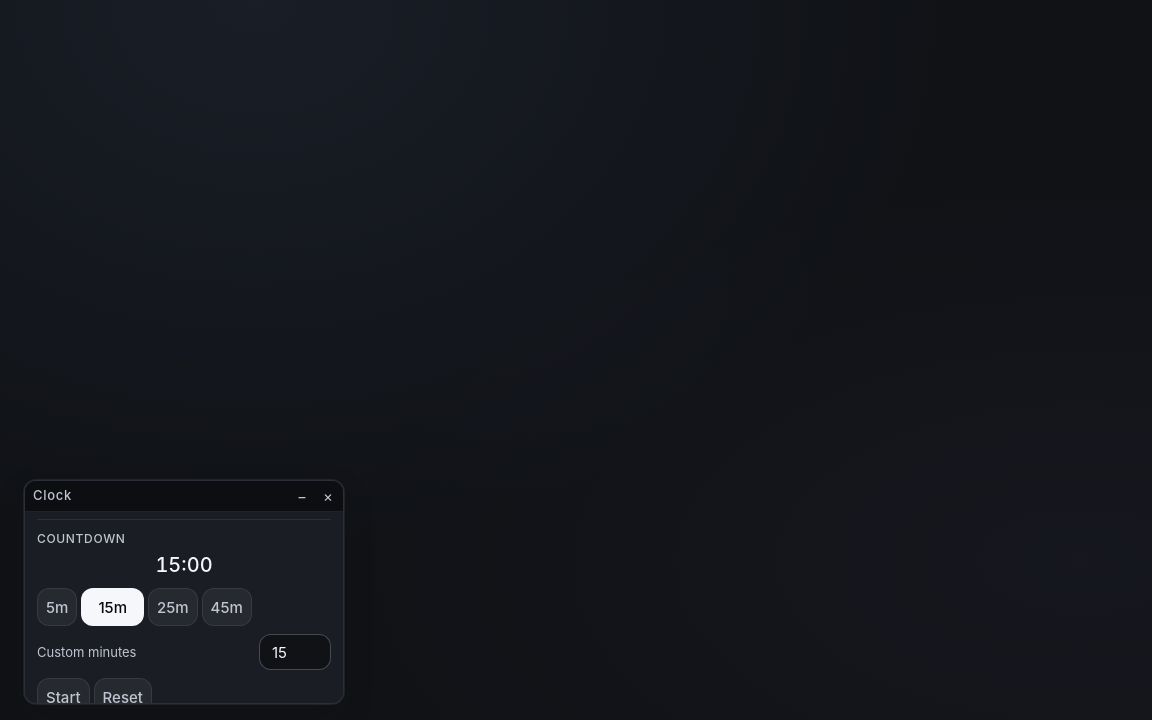
it: ClockPanel — countdown presets and bounds › clicking a preset loads that many minutes into the readout
(page scrolled)
Click the button "5m" at (57, 607), box [37,588,77,626]
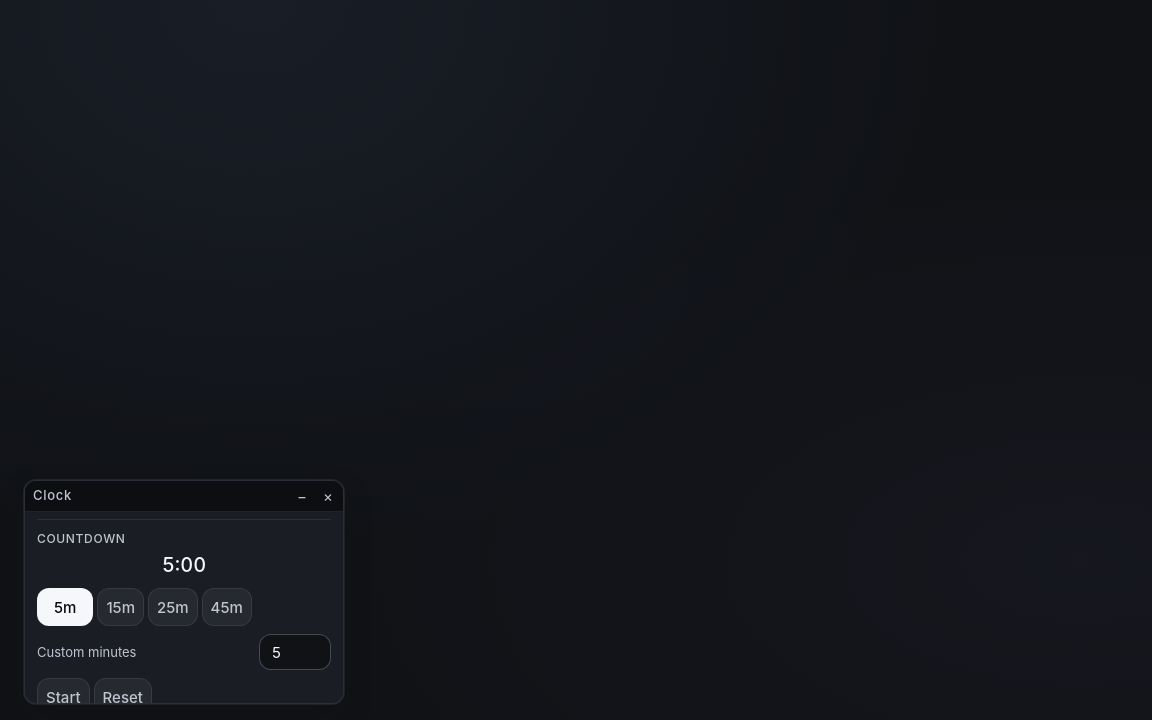
Expected: the text "5:00" is shown, [162,553,206,577]
Click the button "25m" at (173, 607), box [148,588,198,626]
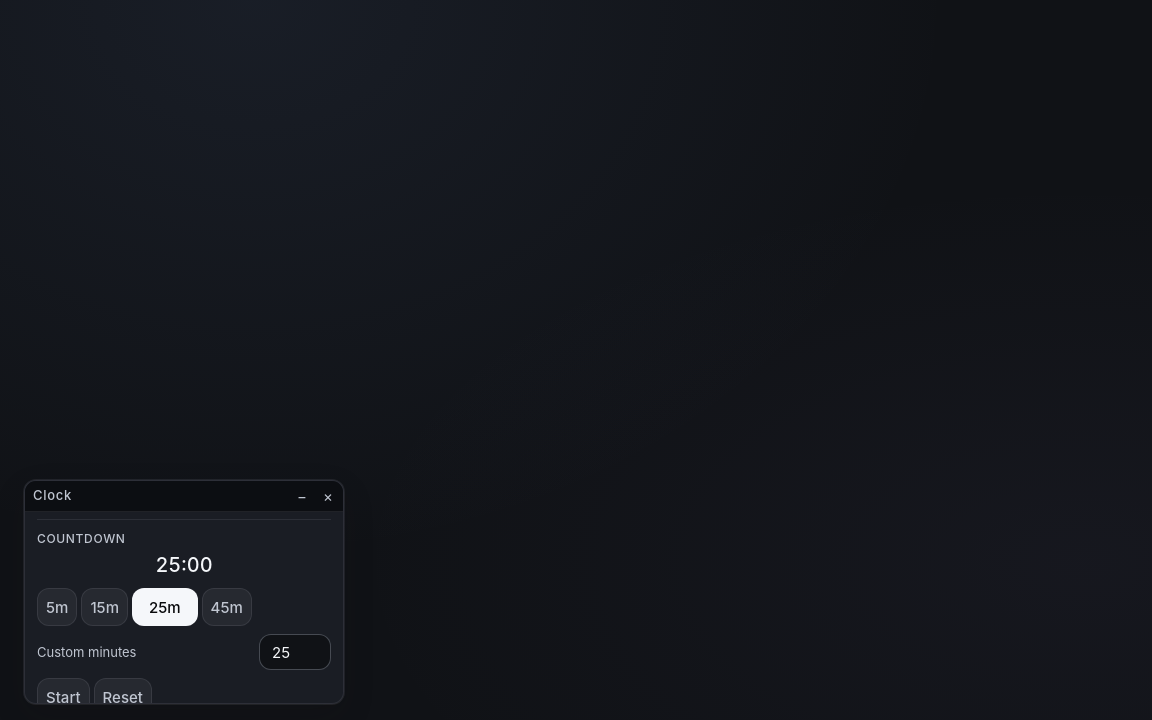
Expected: the text "25:00" is shown, [155,553,213,577]
